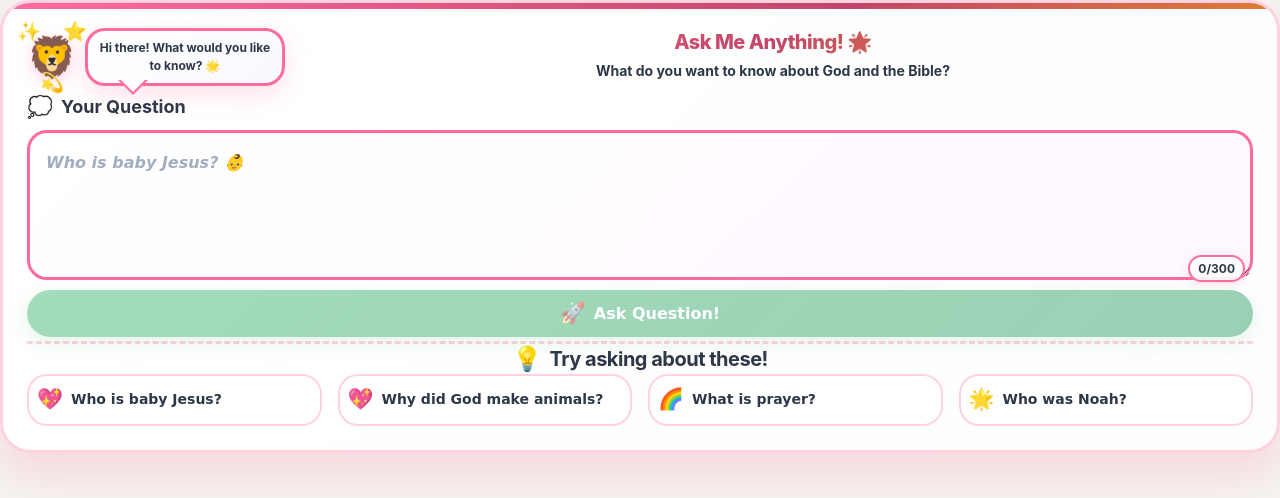
Test: KidsQuestionForm › shows clear button when question has content
Type "Some question" into the text box with class "kids-textarea" at [640, 205], box [27,130,1253,280]
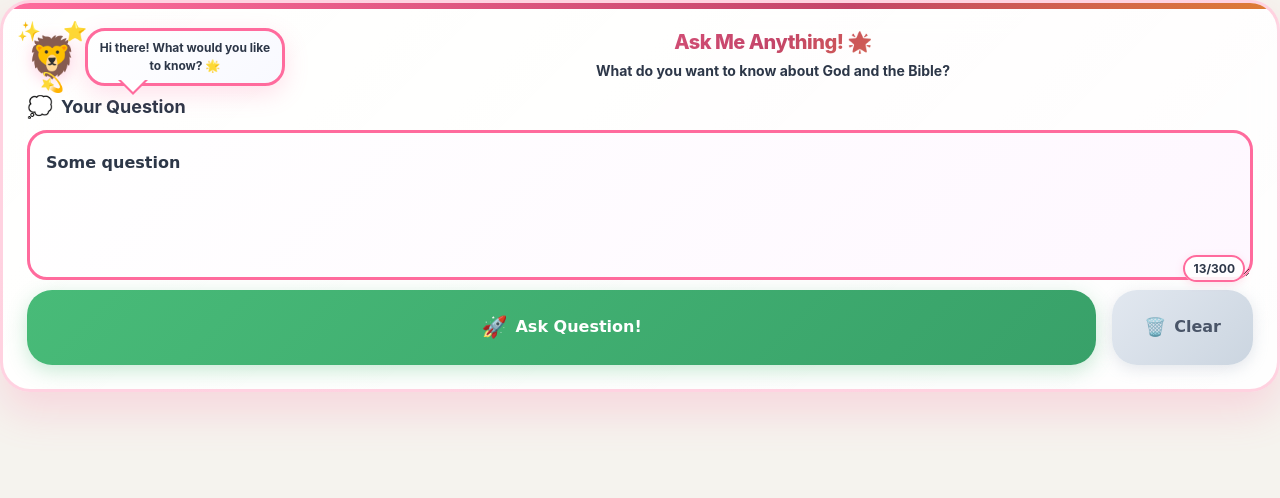
Check: the button with class "kids-clear-button" is shown, box [1112,290,1253,365]
